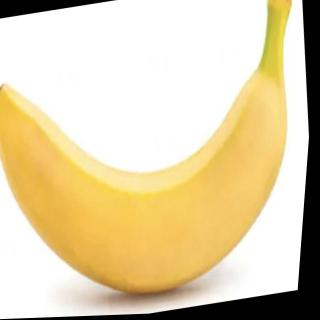banana: (0, 34, 314, 319)
